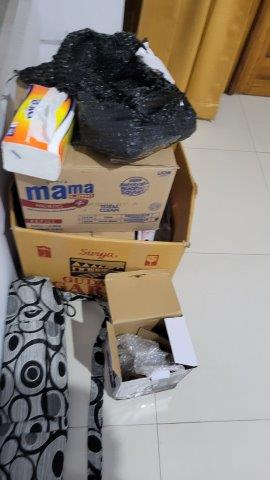kardus: (13, 126, 198, 297), (102, 270, 196, 400)
kertas: (135, 42, 177, 86)
